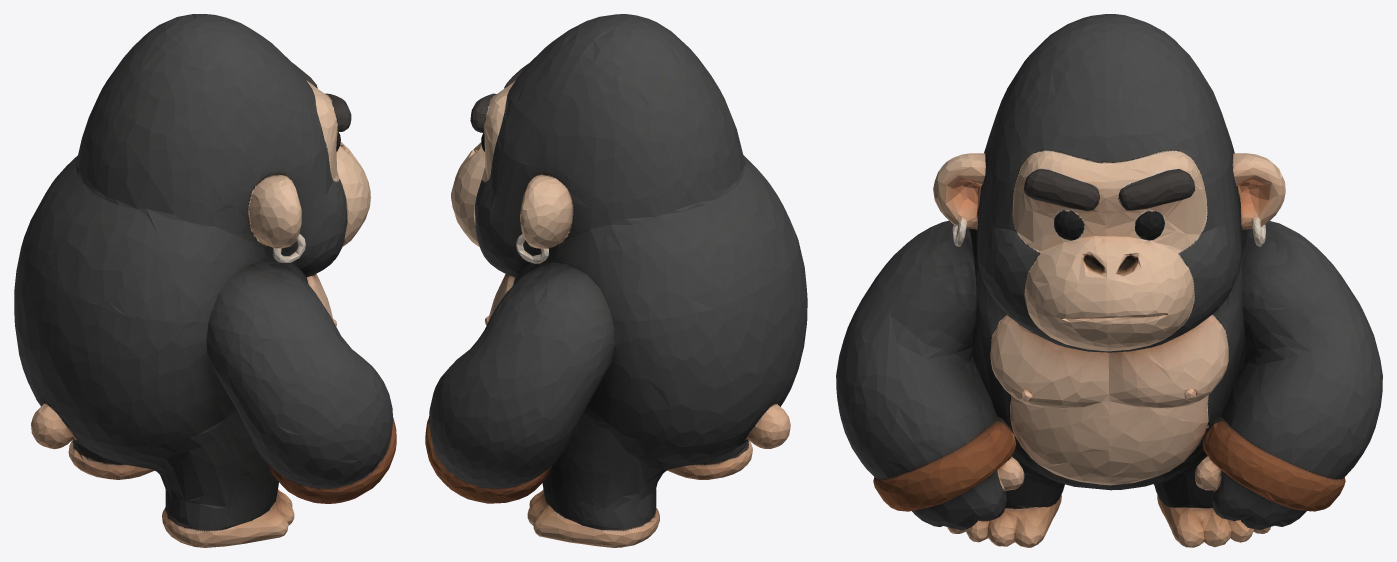
File: sergei.glb
3 views of the same model, side by side, from view 1: azimuth 30°, elevation 25°; view 2: azimuth 150°, elevation 25°; view 3: azimuth 270°, elevation 25° (orthographic). The views are drawn at different scales.
Parts seen in each view (by area): view 1: tripo_node_e065df6e-0c38-4625-8afa-13d5bc07bf74; view 2: tripo_node_e065df6e-0c38-4625-8afa-13d5bc07bf74; view 3: tripo_node_e065df6e-0c38-4625-8afa-13d5bc07bf74.
Part boxes in pixels (x1,y1,x2,y2): tripo_node_e065df6e-0c38-4625-8afa-13d5bc07bf74: [14, 14, 396, 547]; tripo_node_e065df6e-0c38-4625-8afa-13d5bc07bf74: [425, 14, 807, 547]; tripo_node_e065df6e-0c38-4625-8afa-13d5bc07bf74: [836, 14, 1382, 547].
Size of the model in its own units: 0.7152 by 0.9795 by 0.9568.
1 material, 1 textured.
